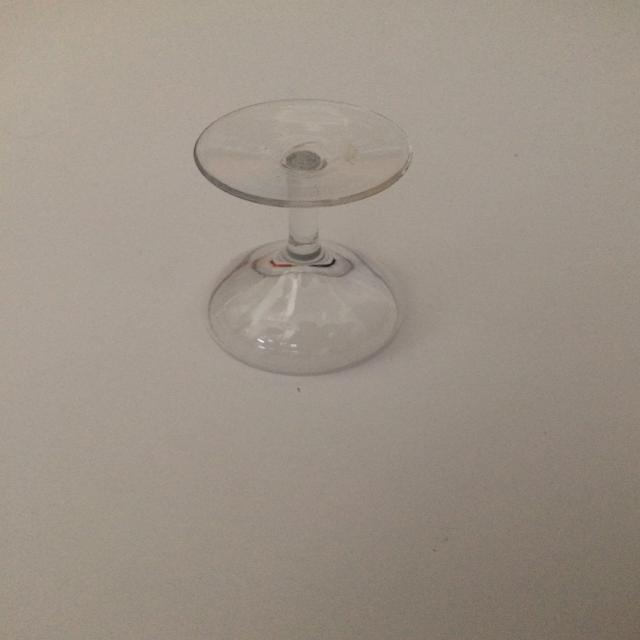glass: (194, 97, 414, 376)
